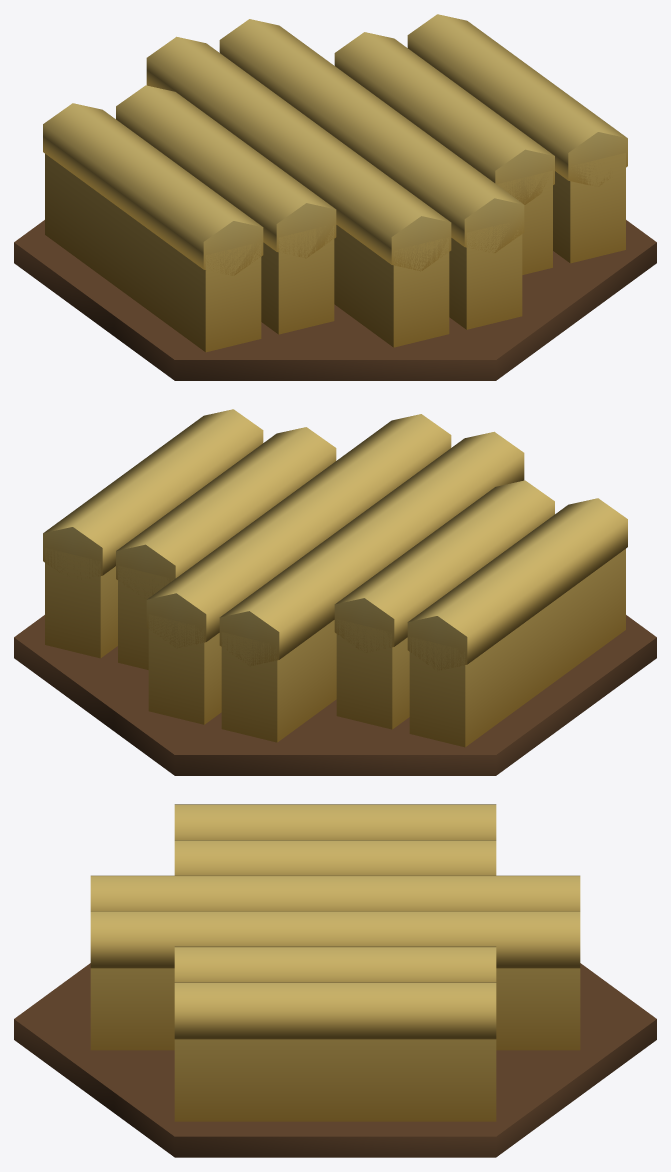
File: field_ripe.glb
3 views of the same model, one above another, from view 1: azimuth 30°, elevation 25°; view 2: azimuth 150°, elevation 25°; view 3: azimuth 270°, elevation 25° (orthographic).
Visible parts, largest first — view 1: field_ripe; view 2: field_ripe; view 3: field_ripe.
Boxes of the visible parts, x1,y1,x2,y2 form: field_ripe: (14,14,656,380); field_ripe: (14,409,656,775); field_ripe: (14,804,656,1157).
Bounding box in the file's own units: 0.7275 × 0.21 × 0.84.
